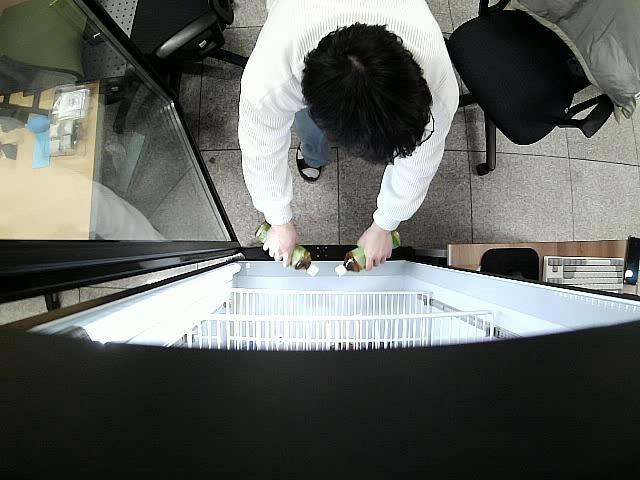19_17cha: (253, 219, 321, 280), (333, 230, 401, 280)
